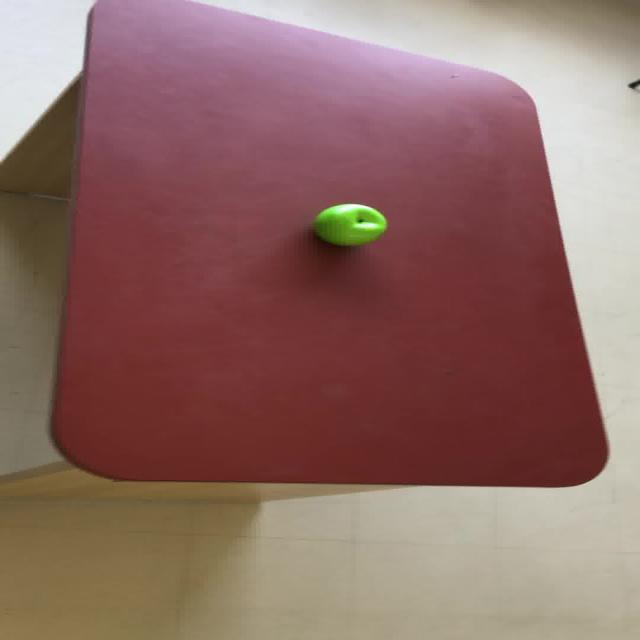apple: (311, 203, 387, 246)
